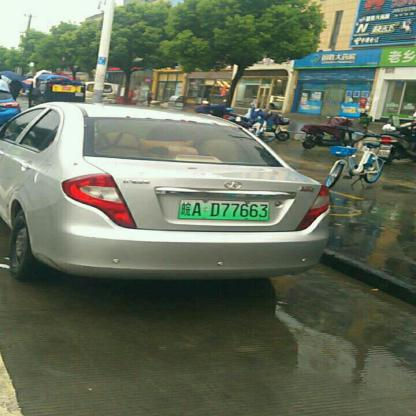lp: (178, 198, 269, 219)
